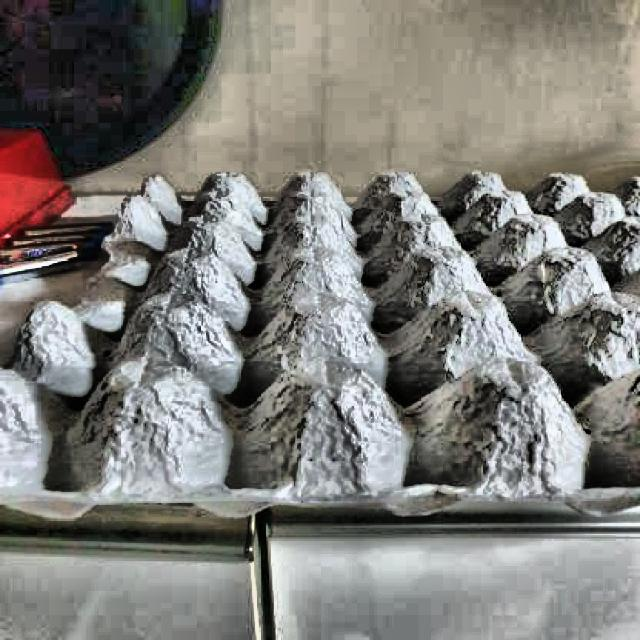Cardbox: (0, 143, 640, 516)
